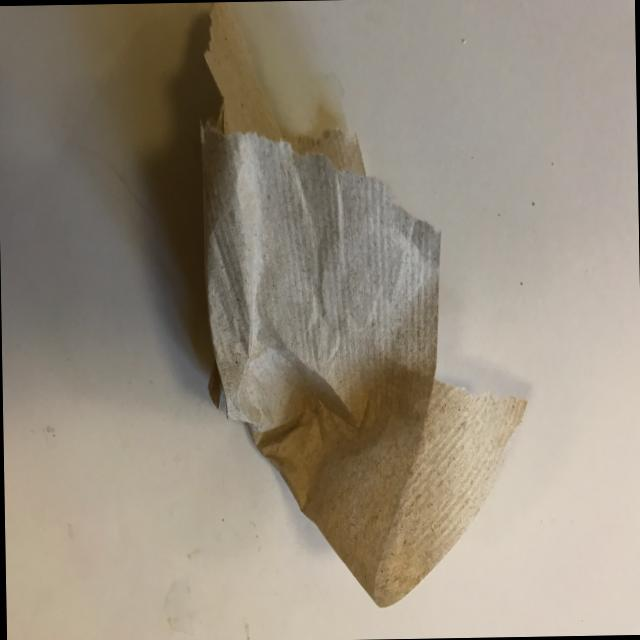Paper: (127, 0, 554, 631)
